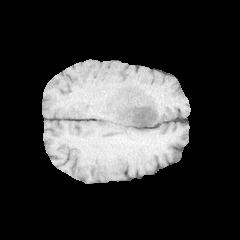glioma: (101, 84, 173, 137)
